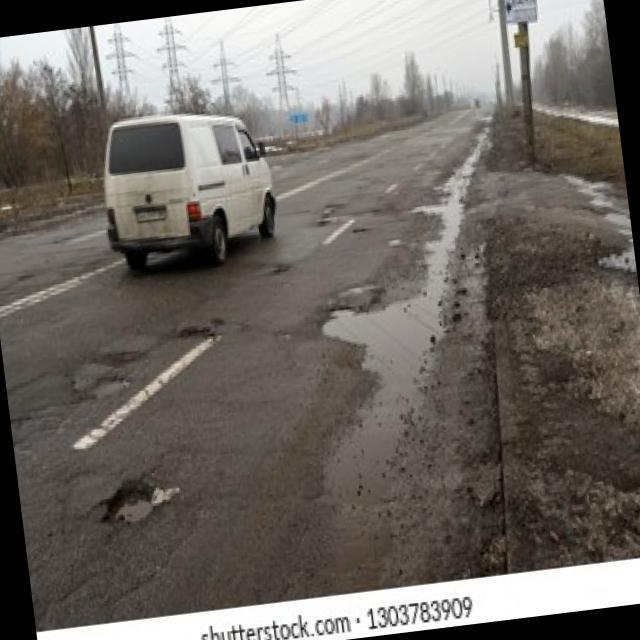Pothole: (96, 472, 160, 527), (85, 371, 134, 404), (95, 348, 143, 370), (272, 266, 285, 275), (350, 225, 365, 232)
